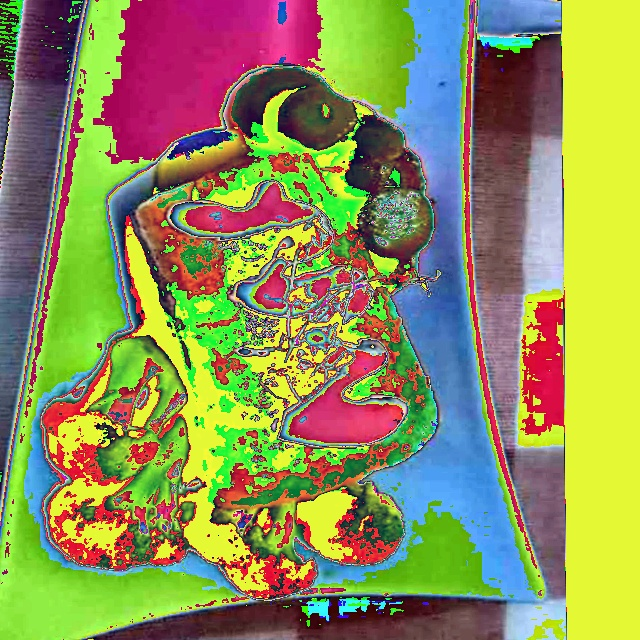background: (41, 65, 441, 601)
